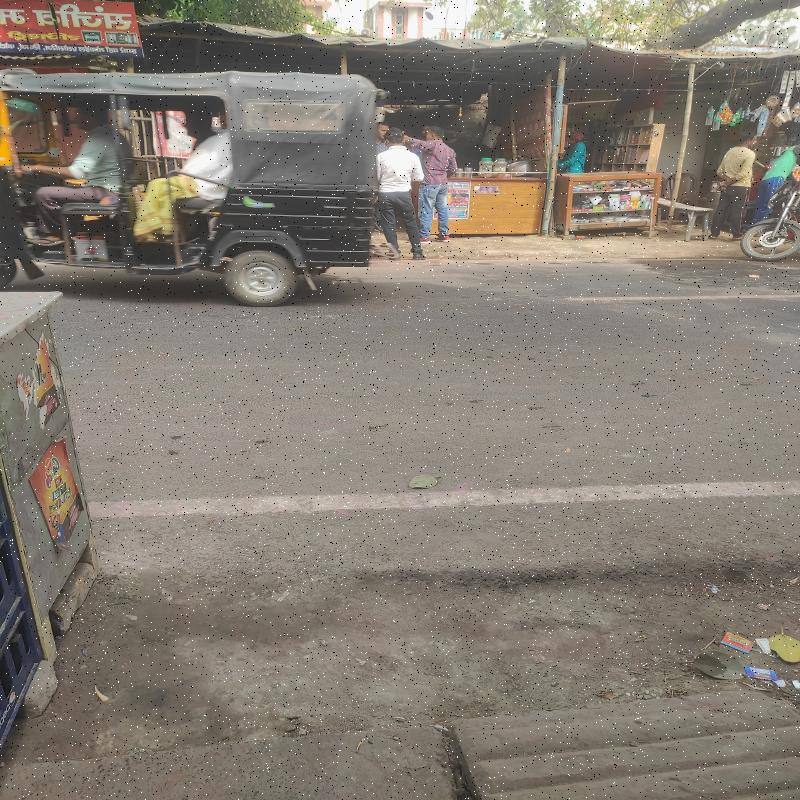auto: (0, 76, 368, 282)
